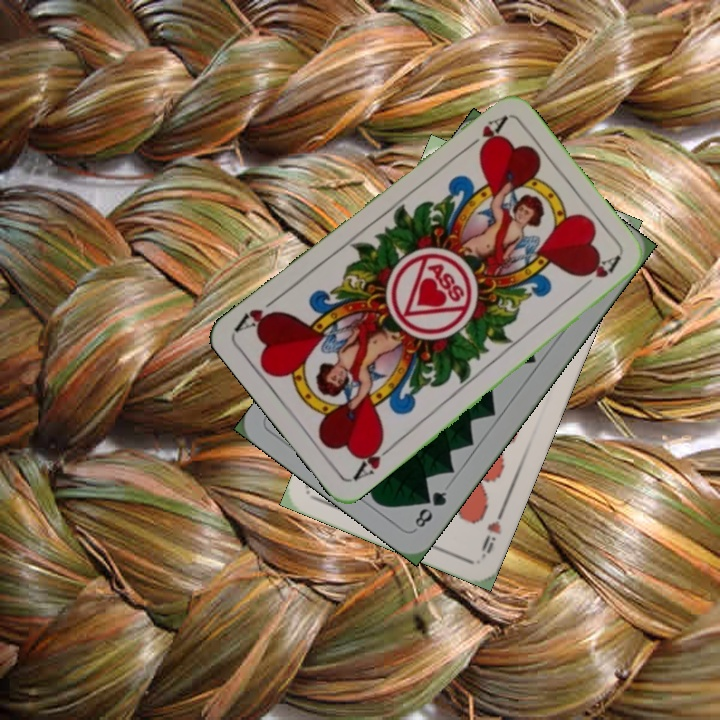G8: (410, 487, 450, 531)
H9: (477, 503, 507, 560)
HA: (348, 435, 398, 484), (459, 112, 509, 157)
